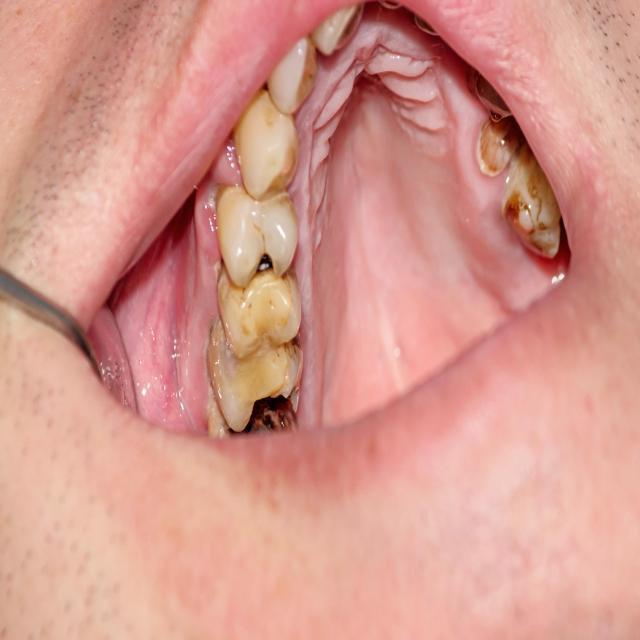caries: (205, 350, 301, 439), (218, 274, 304, 352), (503, 148, 563, 259), (477, 118, 517, 176)
